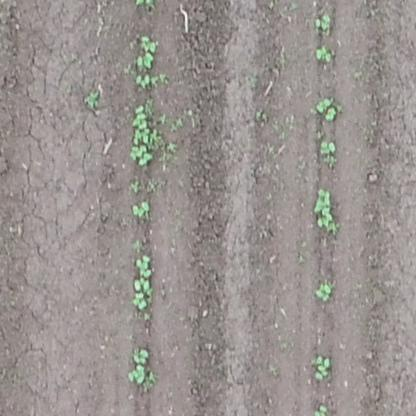vc: (315, 188, 337, 235), (311, 354, 334, 382), (314, 96, 338, 120), (133, 253, 154, 278), (127, 148, 155, 166), (124, 365, 146, 386), (314, 279, 333, 302), (128, 293, 150, 312), (133, 107, 150, 131), (130, 199, 151, 217), (316, 45, 335, 63), (140, 35, 159, 52), (135, 72, 154, 89), (318, 139, 337, 156), (132, 347, 151, 364), (314, 14, 331, 32), (128, 133, 151, 145), (134, 54, 154, 67), (130, 281, 153, 292)
